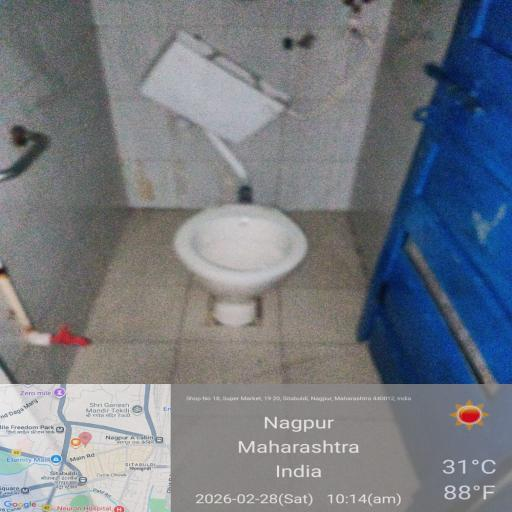clean_western: (124, 18, 347, 321)
dirty_floor: (74, 324, 478, 512)
